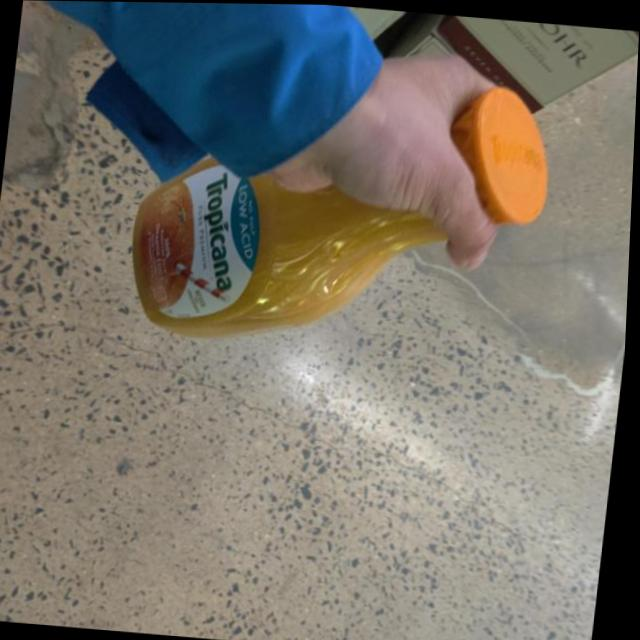Juice: (131, 46, 562, 375)
